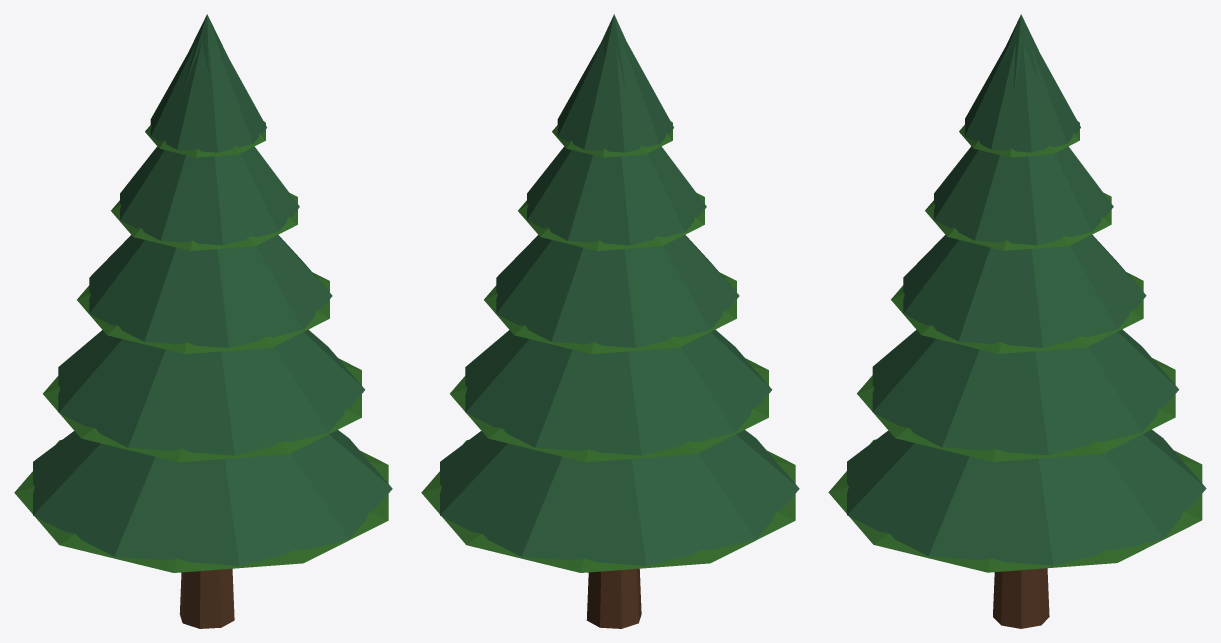
The model's file is tree_pine.glb.
The picture shows the model from 3 angles, left to right: view 1: azimuth 30°, elevation 25°; view 2: azimuth 150°, elevation 25°; view 3: azimuth 270°, elevation 25°; orthographic projection.
Parts seen in each view (by area): view 1: tree_pine; view 2: tree_pine; view 3: tree_pine.
Part boxes in pixels (x1=…): tree_pine: x1=14, y1=14, x2=392, y2=628; tree_pine: x1=421, y1=14, x2=799, y2=628; tree_pine: x1=828, y1=14, x2=1206, y2=628.
Size of the model in its own units: 3.48 by 6.1 by 3.47.
